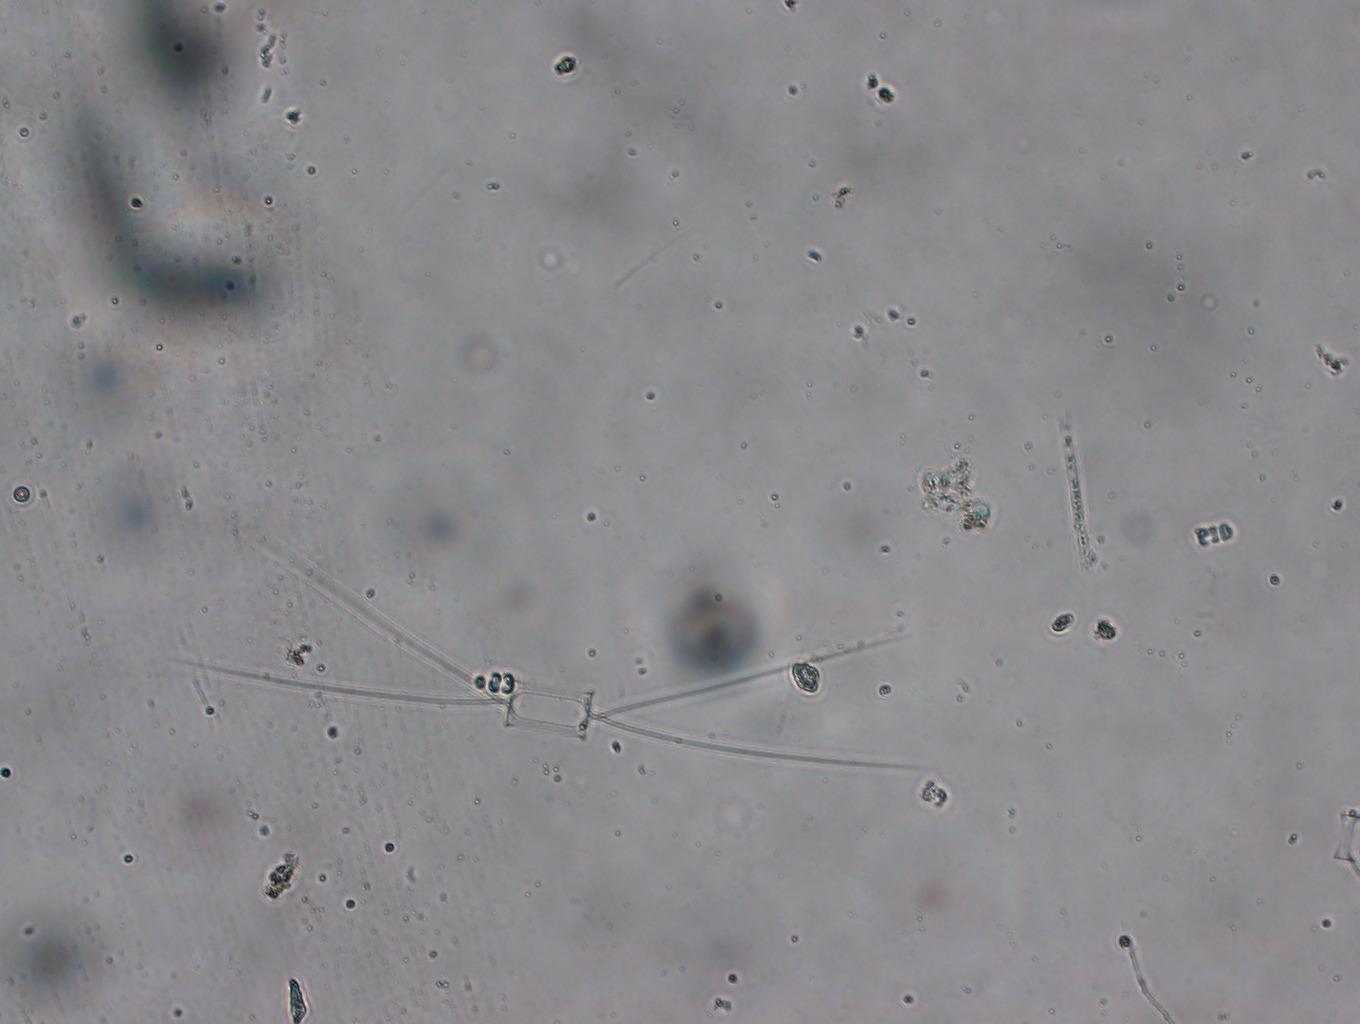chaetoceros: (176, 542, 931, 772)
